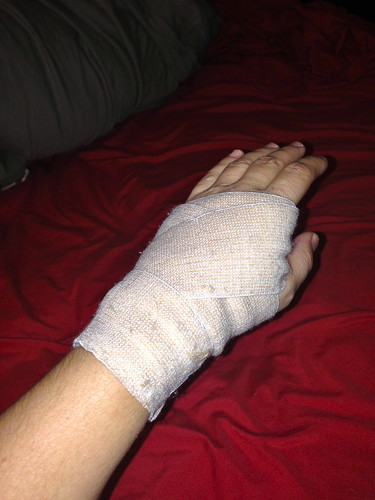injured: (78, 110, 338, 402)
